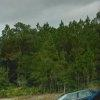Tree: (72, 54, 86, 89)
